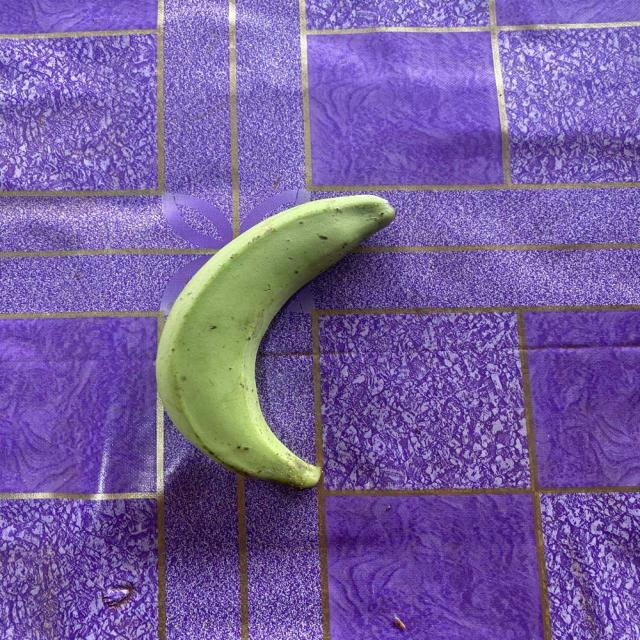Raw: (110, 178, 468, 536)
